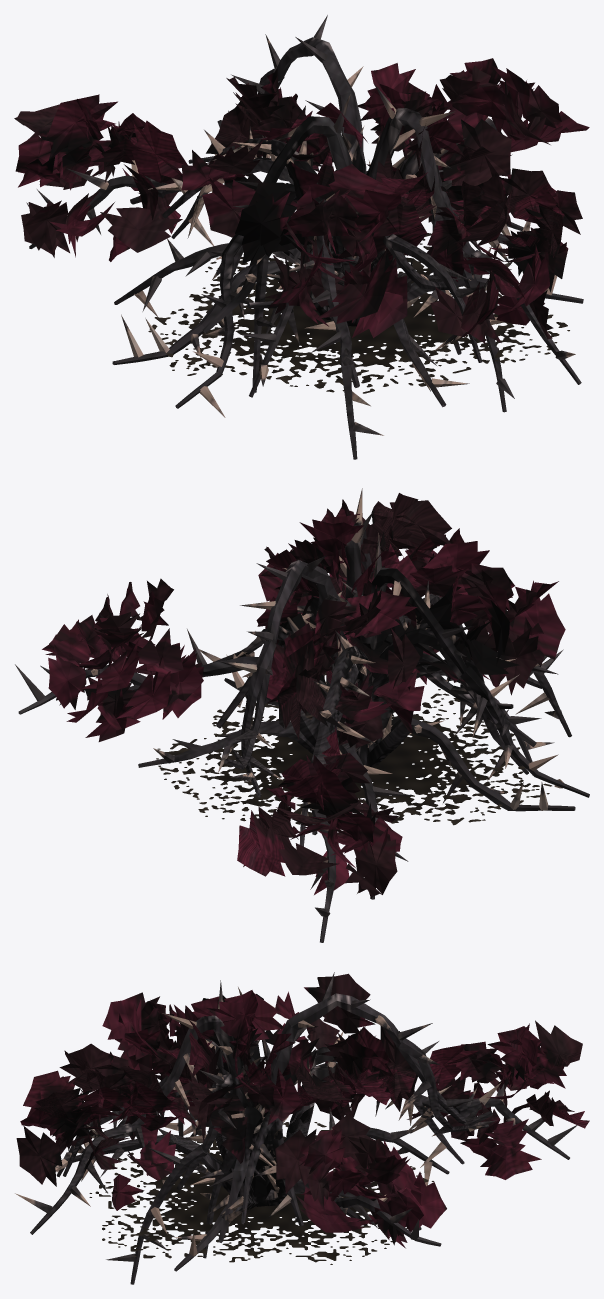
Rendered from bramble.glb.
3 renders of one model, top to bottom at view 1: azimuth 30°, elevation 25°; view 2: azimuth 150°, elevation 25°; view 3: azimuth 270°, elevation 25°, orthographic. The views are drawn at different scales.
Visible parts, largest first — view 1: bramble; view 2: bramble; view 3: bramble.
Part boxes in pixels (x1,y1,x2,y2): bramble: (14,15,589,459); bramble: (15,488,589,942); bramble: (15,972,589,1284).
Bounding box in the file's own units: 2.18 × 1.28 × 2.44.
Materials: 2 (2 with a texture image).
